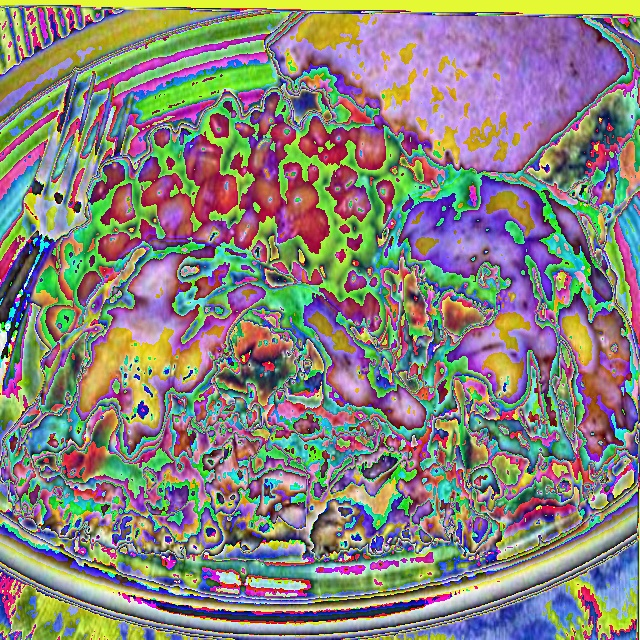background: (0, 12, 640, 563)
